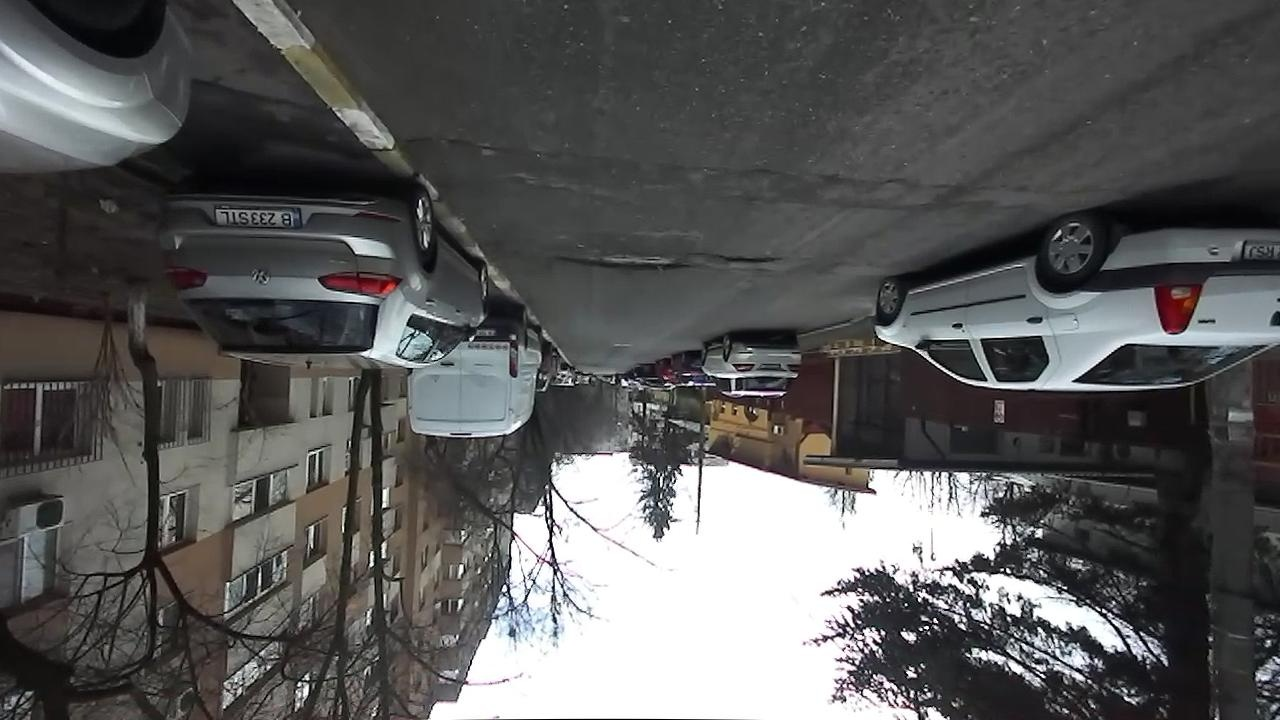pothole: (549, 248, 694, 273), (406, 126, 503, 158), (709, 252, 784, 267)
